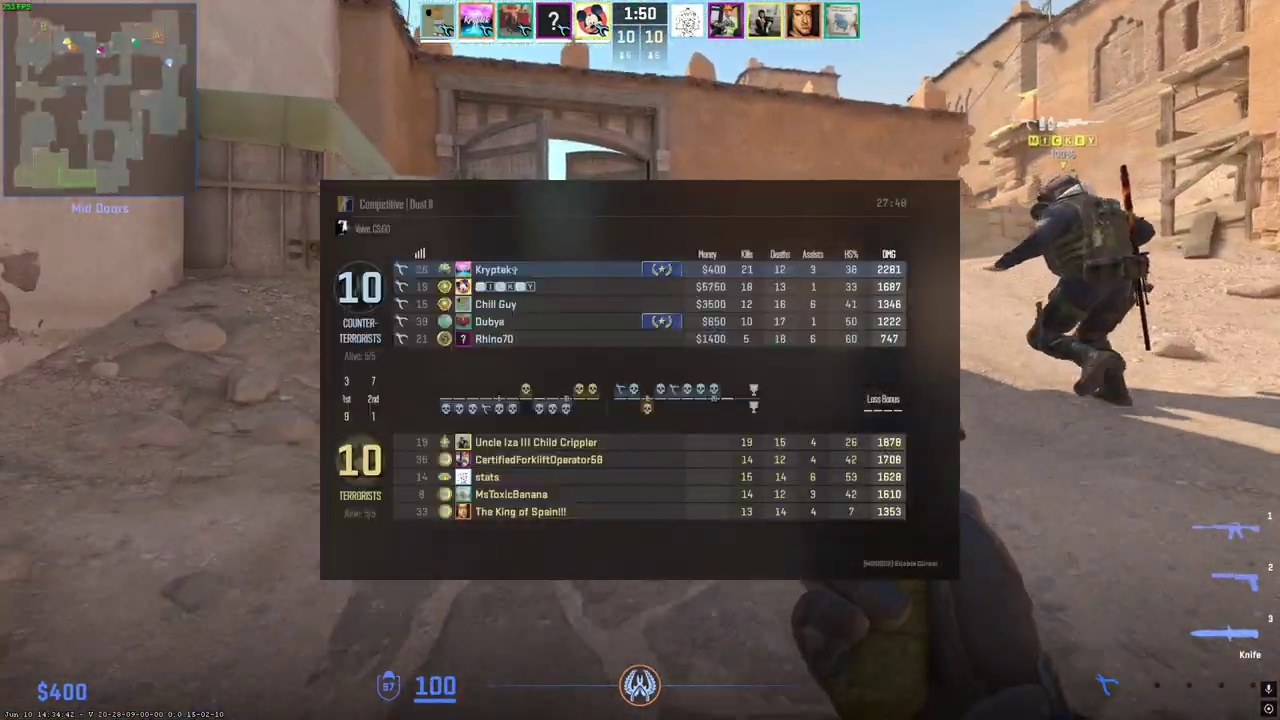CT: (1021, 174, 1145, 406)
